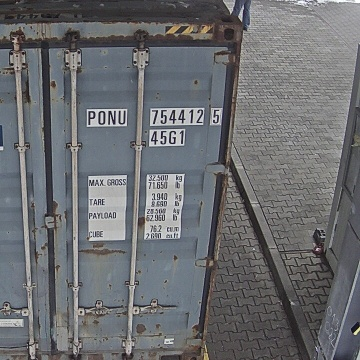serial_id: (87, 109, 219, 125)
